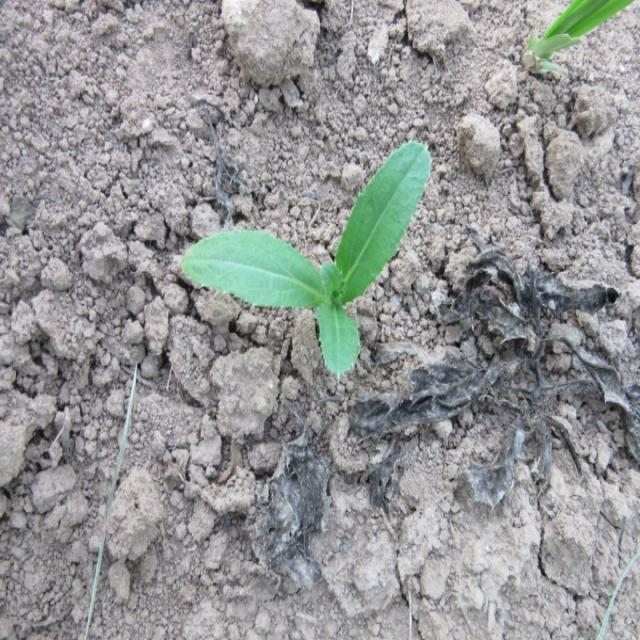cs: (181, 138, 433, 378)
